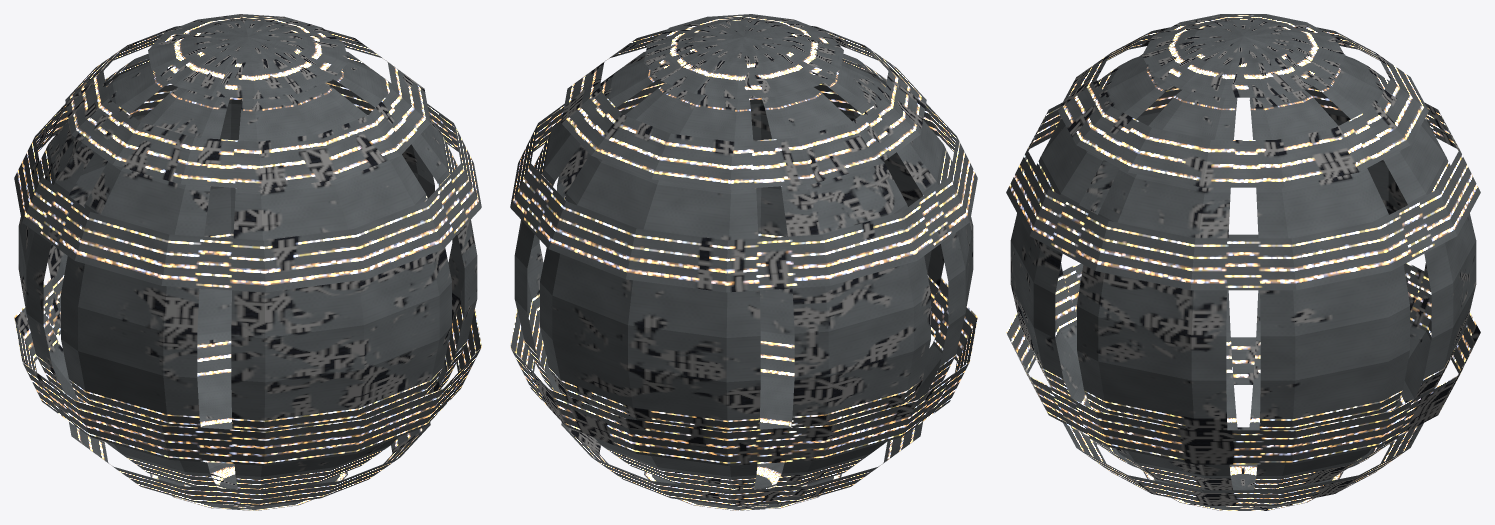
The model's file is DysonSphere-01.fbx.
The picture shows the model from 3 angles, left to right: view 1: azimuth 30°, elevation 25°; view 2: azimuth 150°, elevation 25°; view 3: azimuth 270°, elevation 25°; orthographic projection.
Parts seen in each view (by area): view 1: DysonSphere, DysonSphereRings; view 2: DysonSphere, DysonSphereRings; view 3: DysonSphere, DysonSphereRings.
Part boxes in pixels (<box>): DysonSphere: <box>18,51,477,490</box>; DysonSphereRings: <box>14,14,481,510</box>; DysonSphere: <box>514,51,973,490</box>; DysonSphereRings: <box>510,14,977,510</box>; DysonSphere: <box>1010,54,1476,490</box>; DysonSphereRings: <box>1006,14,1480,510</box>.
Size of the model in its own units: 297 by 320 by 304.
